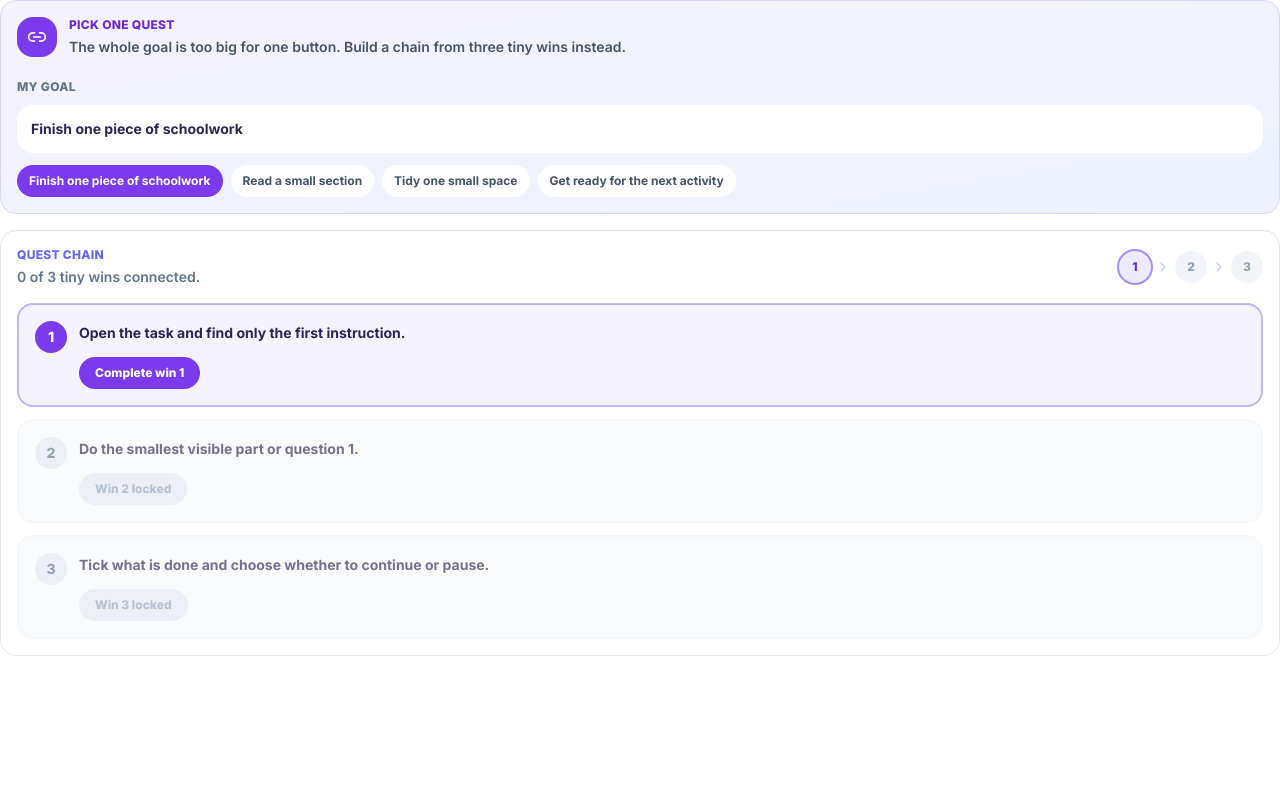
Scenario: AdhdQuestChainActivity › keeps later wins locked and builds steps that match the chosen goal
Replace the text in the field labelled "My goal" with "Read chapter 2" at (640, 129), box 17,105 -> 1263,153
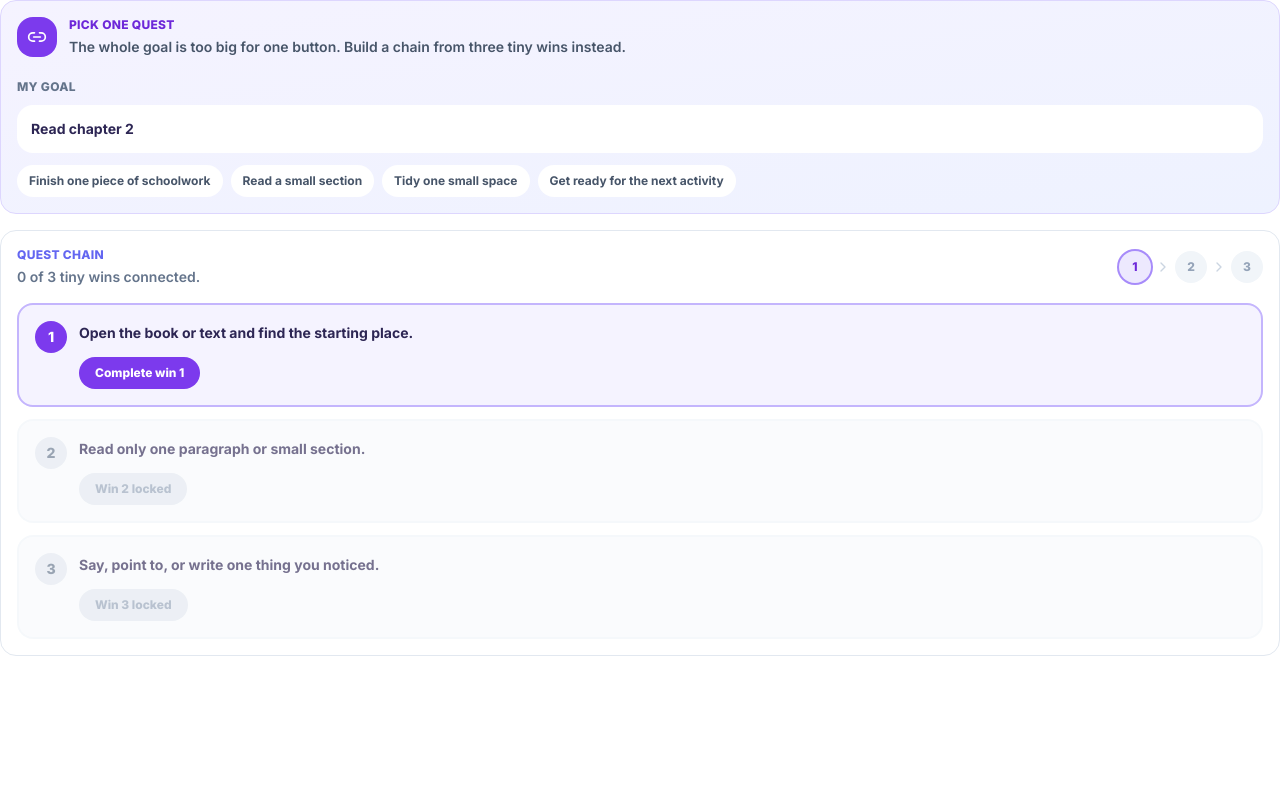
Expected: the button "Complete win 1" is enabled, 79,357 -> 200,389
Result: the text "Open the book or text and find the starting place." is shown at 79,324 -> 413,341
